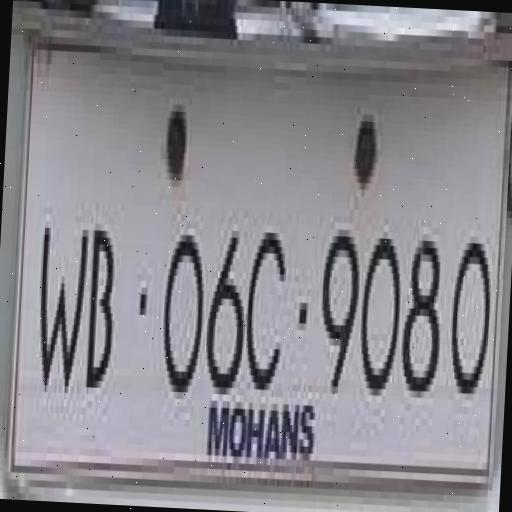number plate: (9, 63, 512, 491)
